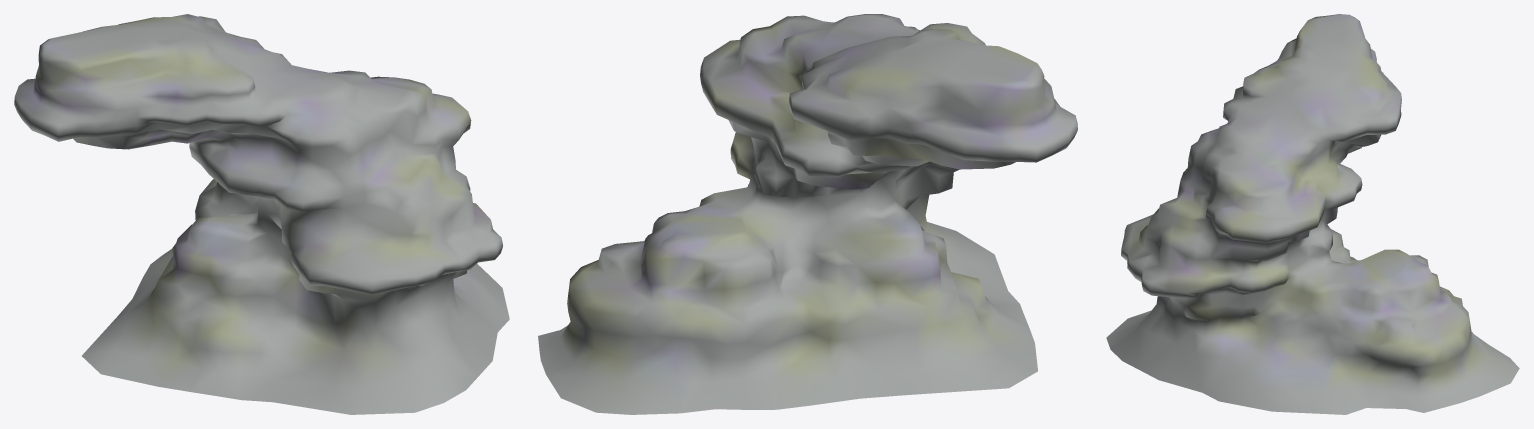
3 renders of one model, left to right at view 1: azimuth 30°, elevation 25°; view 2: azimuth 150°, elevation 25°; view 3: azimuth 270°, elevation 25°, orthographic. The views are drawn at different scales.
Visible parts, largest first — view 1: G:\FFXIV-MapTools\exports\y6f2\bg\ex5\02_ykt_y6\fld\y6f2\bgp; view 2: G:\FFXIV-MapTools\exports\y6f2\bg\ex5\02_ykt_y6\fld\y6f2\bgp; view 3: G:\FFXIV-MapTools\exports\y6f2\bg\ex5\02_ykt_y6\fld\y6f2\bgp.
Boxes of the visible parts, x1=… form: G:\FFXIV-MapTools\exports\y6f2\bg\ex5\02_ykt_y6\fld\y6f2\bgp: x1=14, y1=14, x2=509, y2=414; G:\FFXIV-MapTools\exports\y6f2\bg\ex5\02_ykt_y6\fld\y6f2\bgp: x1=538, y1=14, x2=1077, y2=414; G:\FFXIV-MapTools\exports\y6f2\bg\ex5\02_ykt_y6\fld\y6f2\bgp: x1=1106, y1=14, x2=1519, y2=414.
Size of the model in its own units: 128 by 83.78 by 130.
